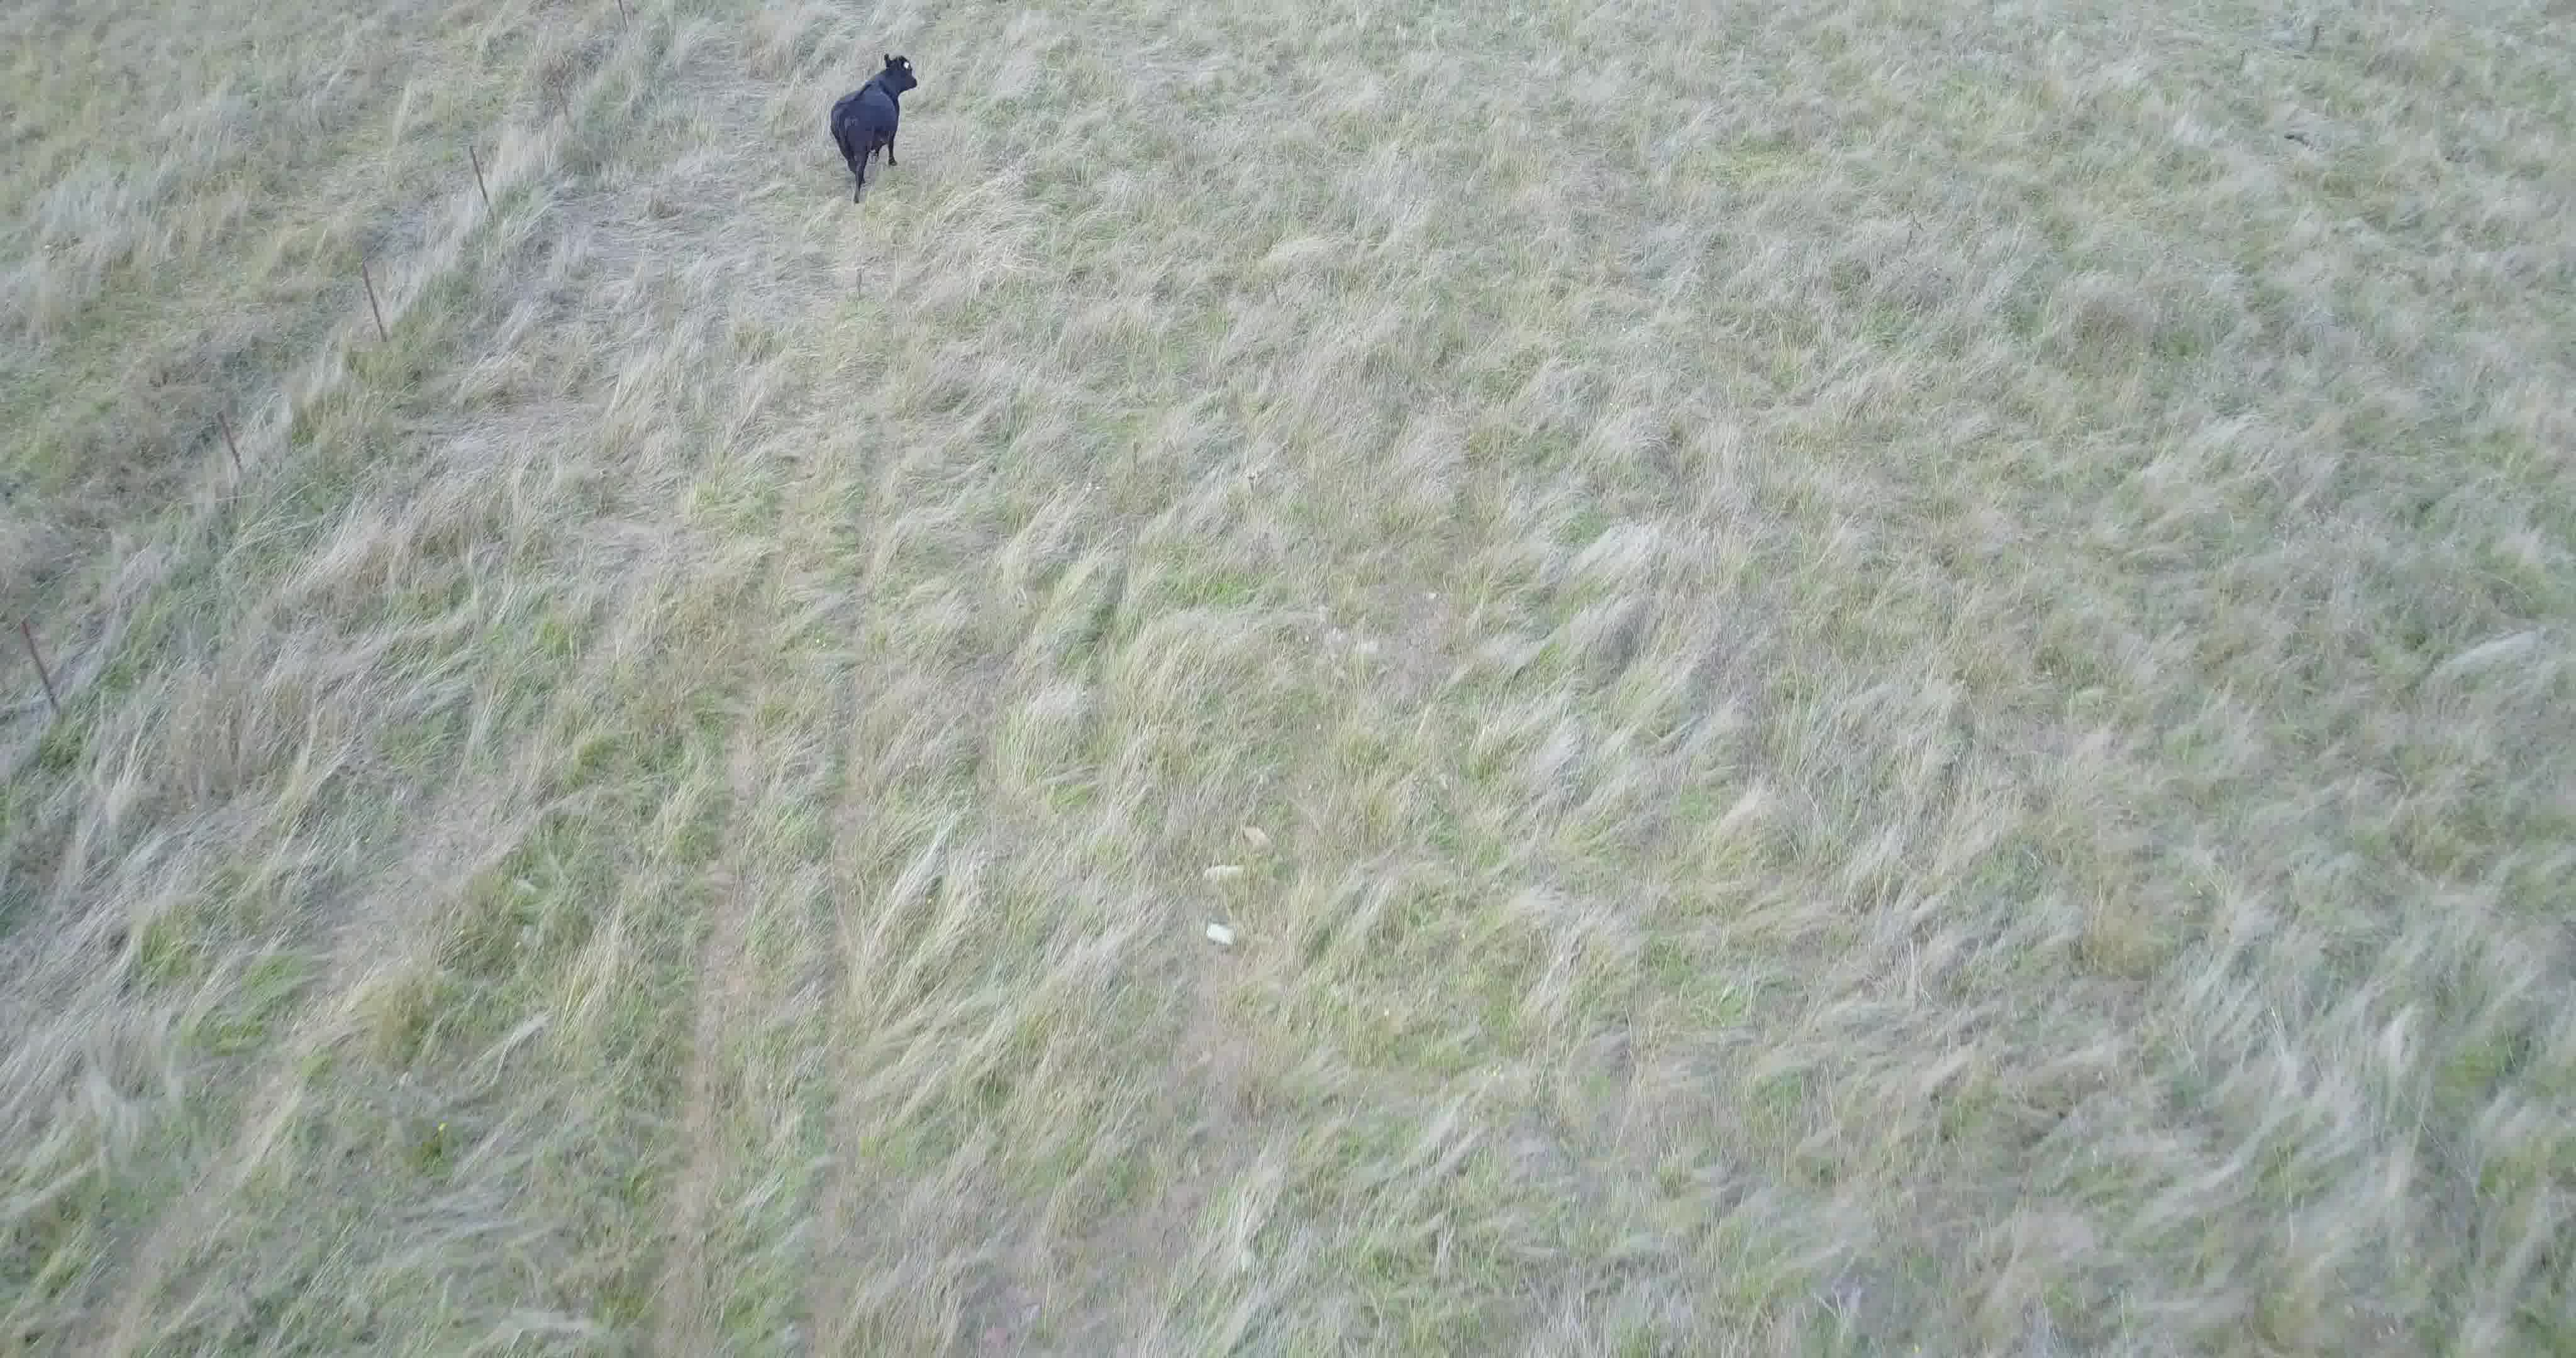cattle: (823, 39, 920, 203)
